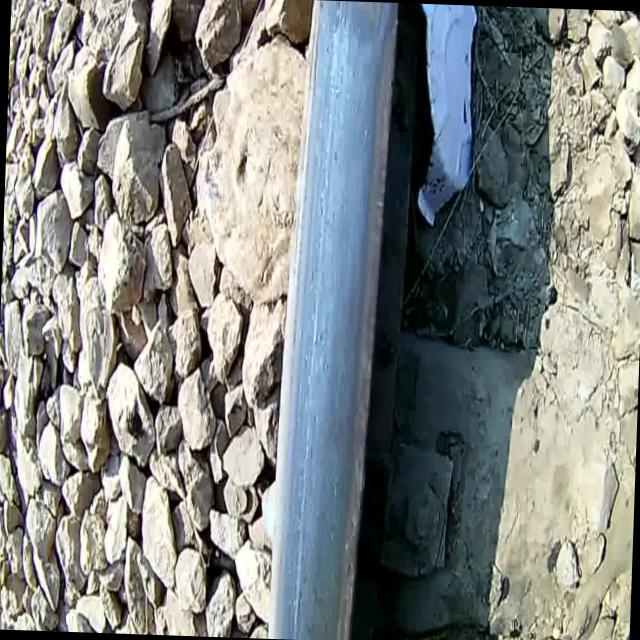Squats: (246, 0, 420, 640)
